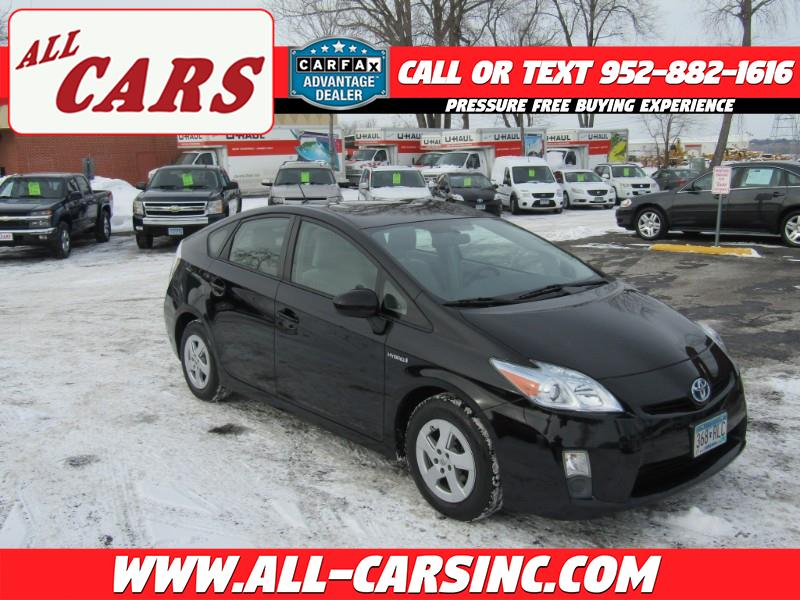Toyota Prius: (163, 199, 749, 527)
